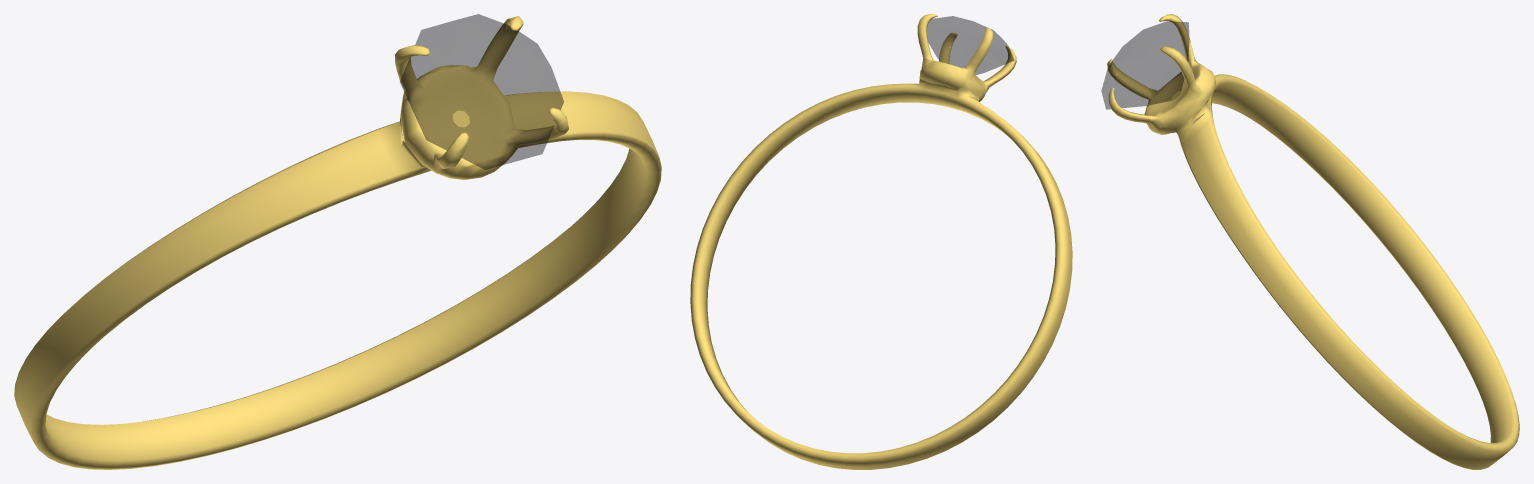
The model's file is ring-gold-diamond.glb.
3 renders of one model, left to right at view 1: azimuth 30°, elevation 25°; view 2: azimuth 150°, elevation 25°; view 3: azimuth 270°, elevation 25°, orthographic. The views are drawn at different scales.
Parts seen in each view (by area): view 1: Cylinder_Material.006_0, Gem_Material.002_0; view 2: Cylinder_Material.006_0, Gem_Material.002_0; view 3: Cylinder_Material.006_0, Gem_Material.002_0.
Part boxes in pixels (x1,y1,x2,y2): Cylinder_Material.006_0: (14,16,661,469); Gem_Material.002_0: (400,14,563,169); Cylinder_Material.006_0: (690,14,1072,469); Gem_Material.002_0: (927,16,1014,74); Cylinder_Material.006_0: (1107,14,1519,469); Gem_Material.002_0: (1101,21,1189,109).
Bounding box in the file's own units: 0.5379 × 0.515 × 0.4702.
